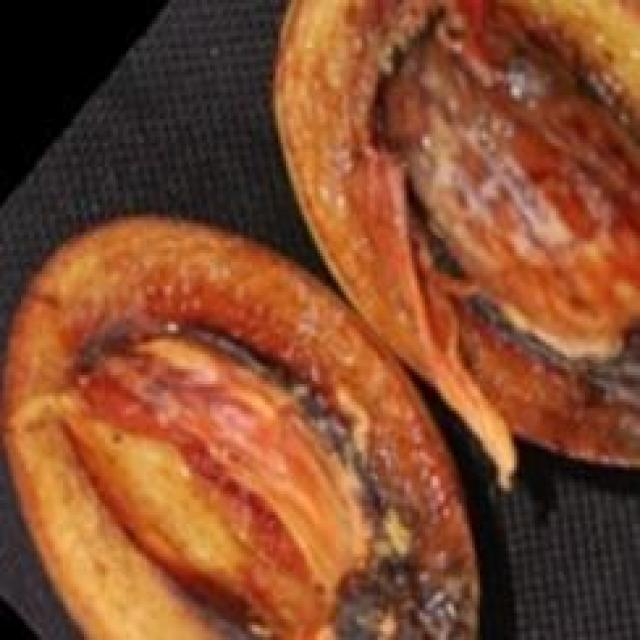damaged: (5, 217, 475, 637), (273, 0, 637, 464)
